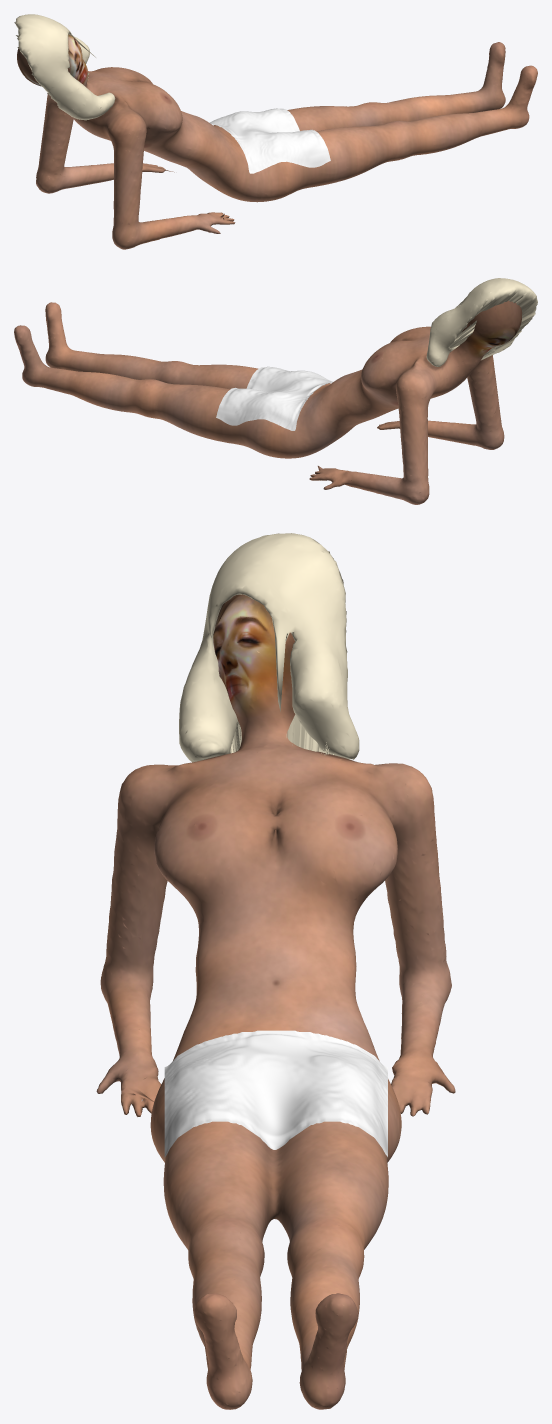
Rendered from kundin_up_a.glb.
The picture shows the model from 3 angles, top to bottom: view 1: azimuth 30°, elevation 25°; view 2: azimuth 150°, elevation 25°; view 3: azimuth 270°, elevation 25°; orthographic projection. The views are drawn at different scales.
Parts seen in each view (by area): view 1: body, hair, towel; view 2: body, towel, hair; view 3: body, hair, towel.
Part boxes in pixels (x1,y1,x2,y2): body: (17,34,537,249); hair: (14,14,115,120); towel: (209,108,330,173); body: (14,300,522,504); towel: (216,366,332,430); hair: (426,278,537,366); body: (96,594,455,1409); hair: (179,533,359,762); towel: (164,1030,387,1157).
Size of the model in its own units: 1.73 by 0.7051 by 0.5404.
Materials: 3 (1 with a texture image).
